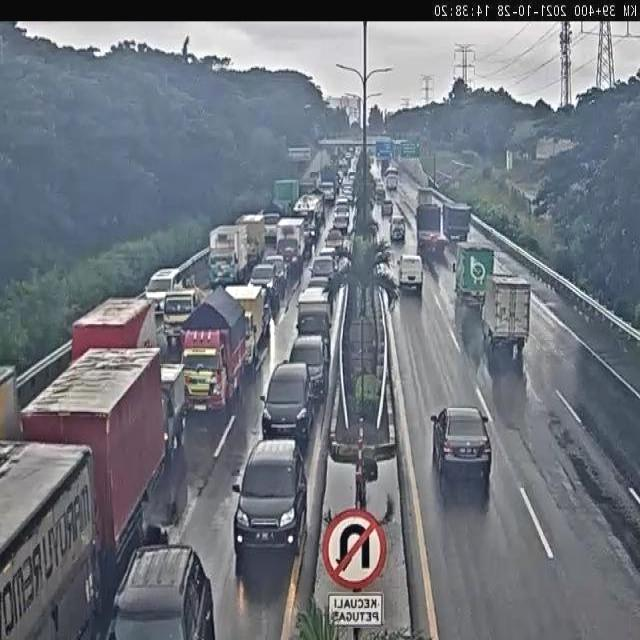Bus: (384, 166, 398, 192)
Car: (102, 540, 217, 640), (230, 437, 310, 565), (430, 406, 494, 483), (258, 362, 314, 446), (282, 335, 330, 401), (142, 266, 182, 316), (248, 264, 280, 304), (262, 251, 289, 292), (308, 256, 338, 278), (324, 228, 346, 255), (263, 250, 284, 270), (306, 274, 333, 289), (316, 246, 338, 261), (332, 216, 349, 235), (333, 204, 351, 220), (343, 180, 355, 203), (381, 198, 393, 217), (375, 188, 386, 205), (348, 166, 357, 184)
Truck: (20, 343, 168, 562), (0, 437, 102, 640), (178, 287, 254, 417), (69, 291, 158, 366), (480, 272, 532, 354), (223, 284, 265, 369), (161, 282, 213, 348), (156, 360, 187, 460), (205, 223, 249, 286), (294, 291, 334, 355), (455, 244, 493, 307), (233, 212, 267, 269), (274, 217, 306, 274), (416, 202, 444, 257), (294, 194, 323, 243), (262, 200, 292, 245), (443, 201, 471, 244), (318, 163, 340, 205), (270, 178, 301, 205), (416, 186, 434, 207)
Van: (398, 255, 424, 294), (389, 214, 407, 244)
